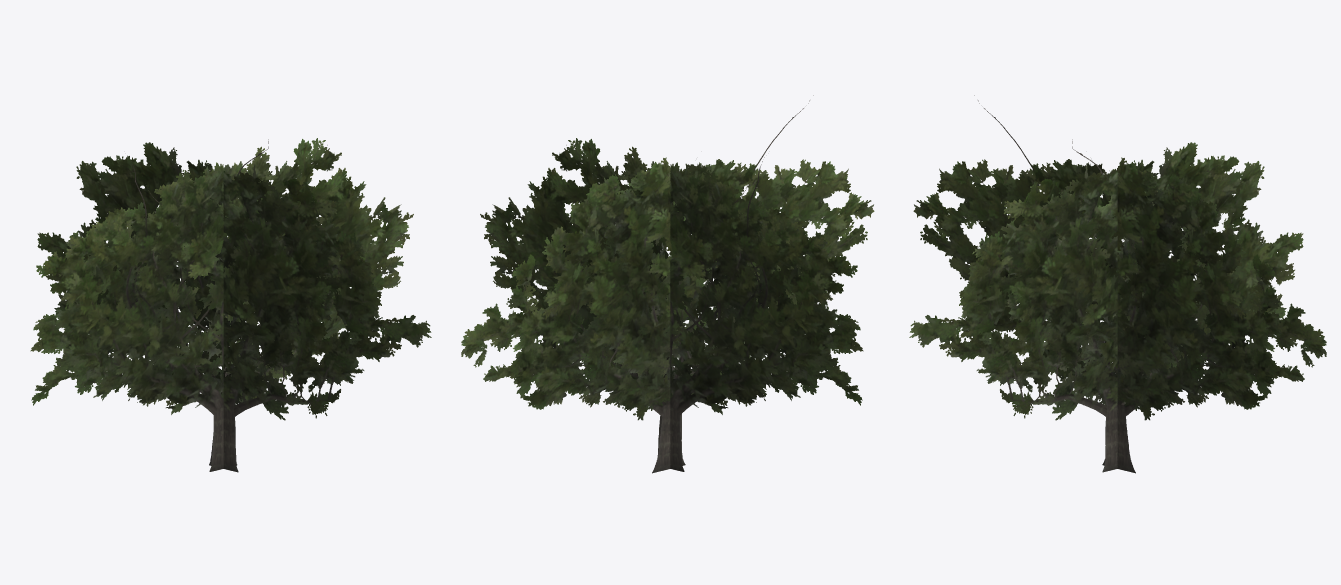
File: dub_stary_daleko.glb
The picture shows the model from 3 angles, left to right: view 1: azimuth 30°, elevation 25°; view 2: azimuth 150°, elevation 25°; view 3: azimuth 270°, elevation 25°; orthographic projection.
Visible parts, largest first — view 1: dub_stary_daleko; view 2: dub_stary_daleko; view 3: dub_stary_daleko.
Part boxes in pixels (box(x1,y1,x2,y2)): dub_stary_daleko: box(30, 138, 431, 472); dub_stary_daleko: box(461, 95, 874, 473); dub_stary_daleko: box(909, 95, 1326, 473).
Bounding box in the file's own units: 23.47 × 18.9 × 20.32.
3 materials, 3 textured.
